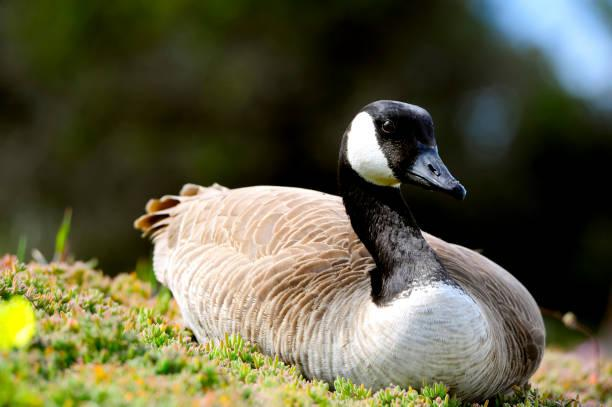Canadian-Goose: (140, 99, 545, 395)
